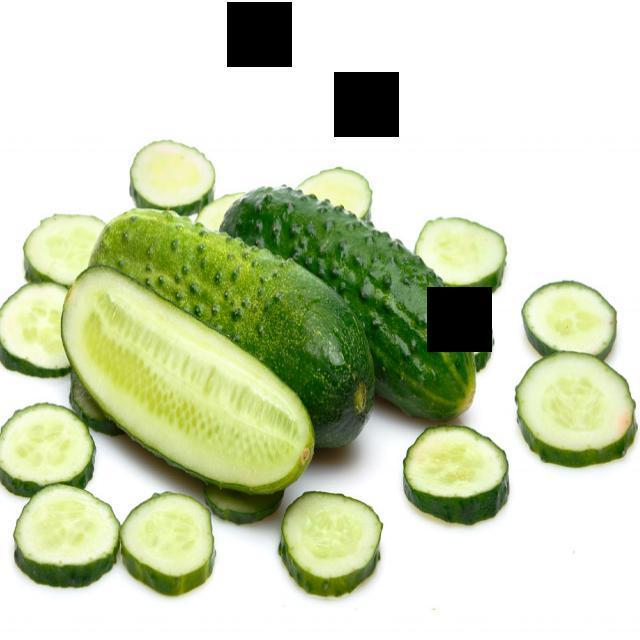cucumber: (0, 103, 622, 614), (57, 255, 311, 491), (504, 336, 640, 486), (1, 466, 146, 590), (512, 245, 614, 387), (118, 474, 228, 598), (398, 411, 512, 526), (262, 487, 386, 590), (0, 262, 110, 366)
